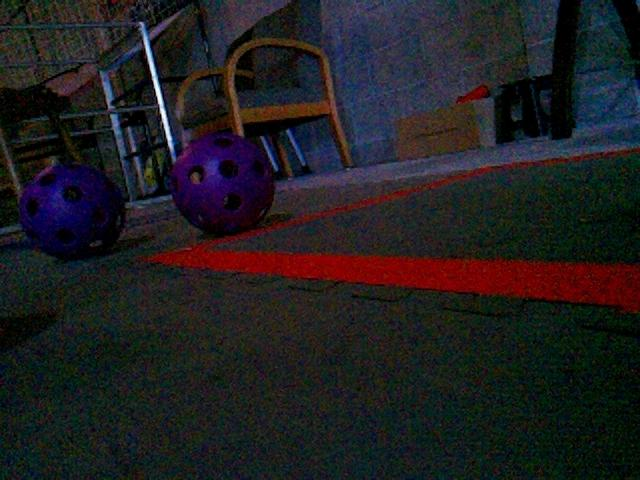Purple: (166, 130, 277, 235), (17, 162, 126, 258)
